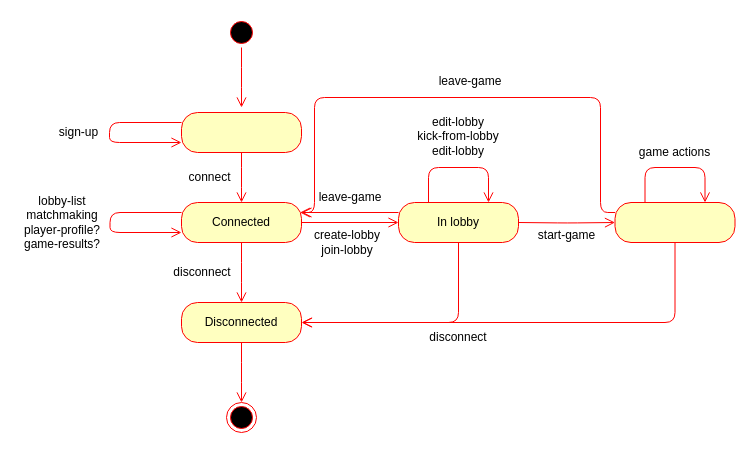
The diagram is 753 pixels wide and 450 high, and some of its shapes have lost their labels. Here are the shapes that lost their labels. From the top down, the box of each, then its label:
(180, 112, 302, 152): Connected (socket)
(614, 202, 735, 242): In game
